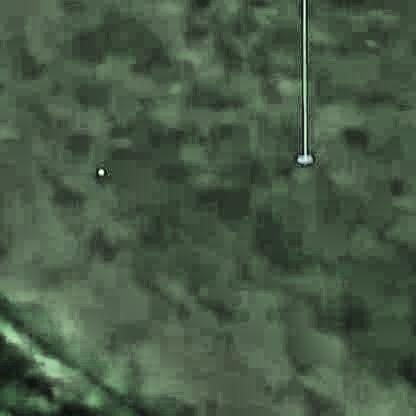golfball: (92, 165, 105, 176)
